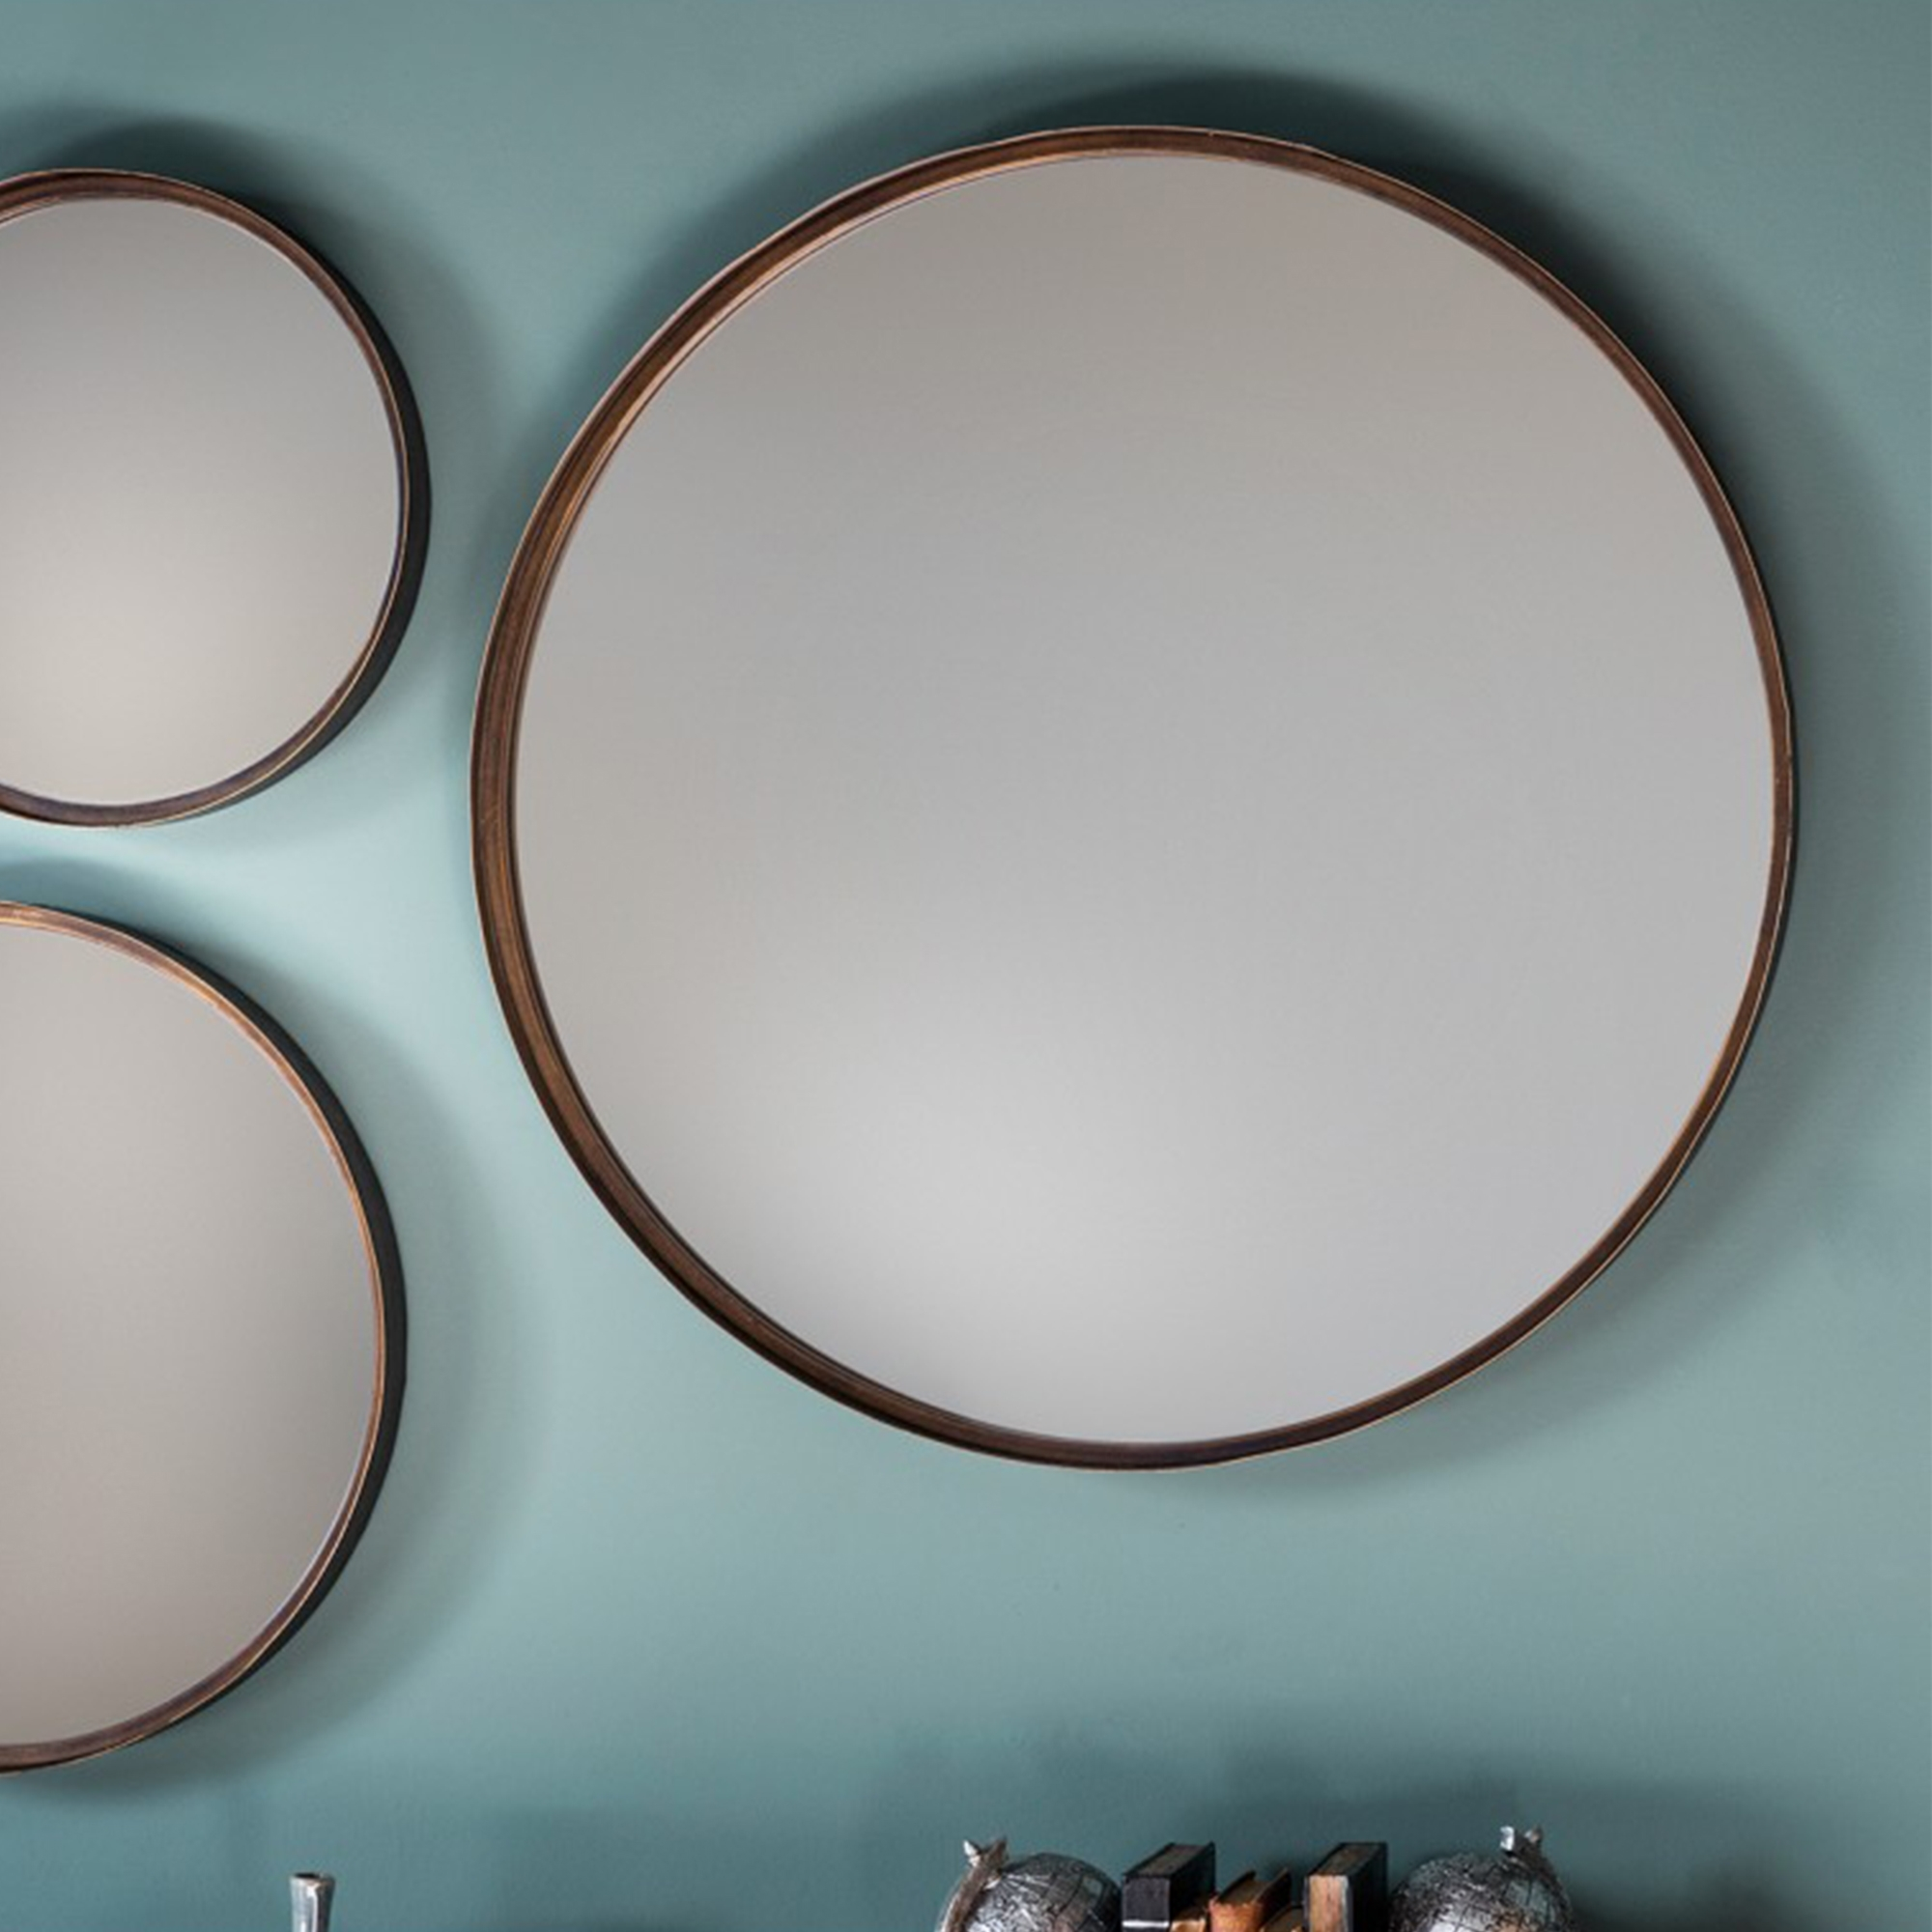Nonrec_Glass: (402, 58, 1838, 1545), (14, 906, 439, 1851), (9, 138, 444, 893)
